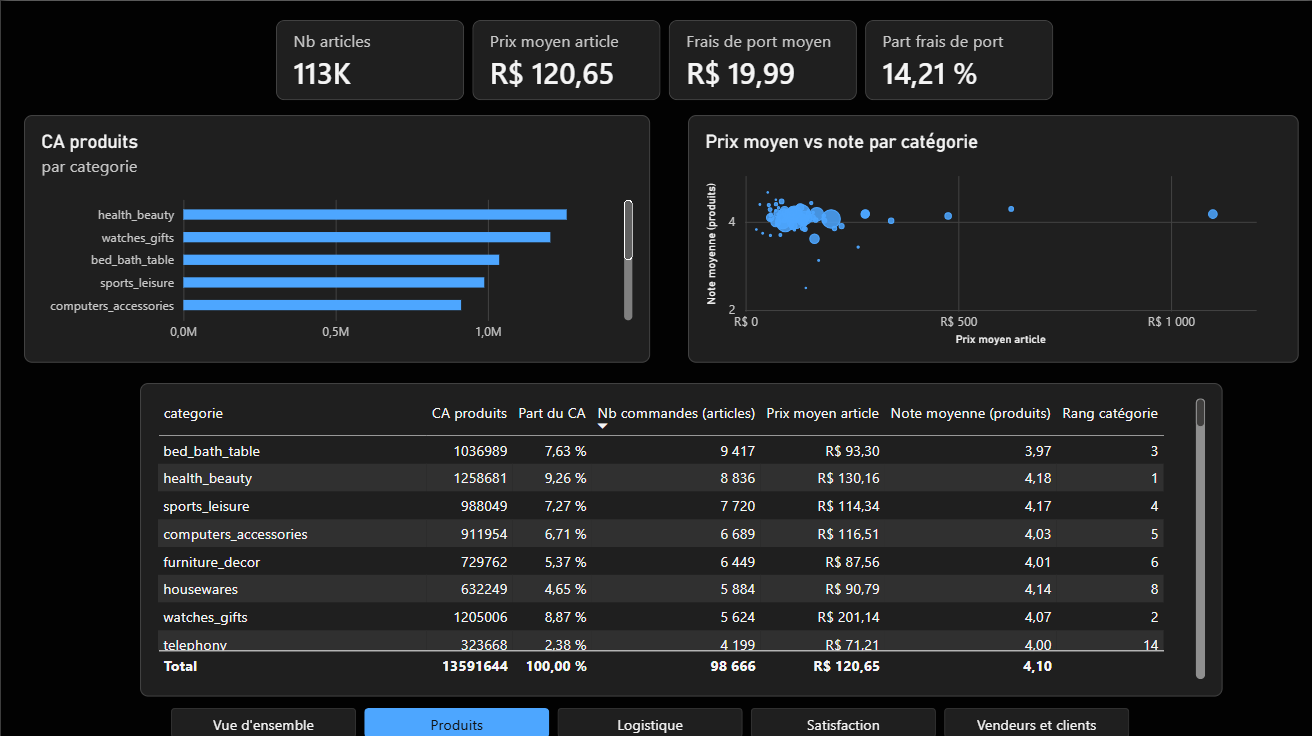

The dashboard page shown, as its layout file describes it:
{"tool":"powerbi","page":{"name":"Produits","canvas":[1280,720],"ordinal":1},"visuals":[{"type":"cardVisual","fields":{"Data":["_Mesures.Nb articles","_Mesures.Prix moyen article","_Mesures.Frais de port moyen","_Mesures.Part frais de port"]},"box":[267.7,18.3,757.6,78.8],"z":0},{"type":"clusteredBarChart","fields":{"Category":["dim_produit.categorie"],"Y":["_Mesures.CA produits"]},"box":[22.7,111.2,608.7,240.7],"z":1000},{"type":"tableEx","fields":{"Values":["dim_produit.categorie","_Mesures.CA produits","_Mesures.Part du CA","_Mesures.Nb commandes (articles)","_Mesures.Prix moyen article","_Mesures.Note moyenne (produits)","_Mesures.Rang catégorie"]},"box":[135,372,1053,305],"z":2000},{"type":"scatterChart","title":"Prix moyen vs note par catégorie","fields":{"Category":["dim_produit.categorie"],"Size":["_Mesures.CA produits"],"X":["_Mesures.Prix moyen article"],"Y":["_Mesures.Note moyenne (produits)"]},"box":[668.1,111.2,593.6,240.7],"z":3000},{"type":"pageNavigator","box":[165.1,687.5,934.6,29.1],"z":4000}]}

Visuals, with their boxes in screenshot pixels (x1, y1, x2, y2), scaled from the page's 1280x720 canvas onto the 1312x736 screenshot:
cardVisual - _Mesures.Nb articles x _Mesures.Prix moyen article: bbox=[274, 19, 1051, 99]
clusteredBarChart - dim_produit.categorie x _Mesures.CA produits: bbox=[23, 114, 647, 360]
tableEx - dim_produit.categorie x _Mesures.CA produits: bbox=[138, 380, 1218, 692]
"Prix moyen vs note par catégorie" scatterChart: bbox=[685, 114, 1293, 360]
pageNavigator: bbox=[169, 703, 1127, 733]
